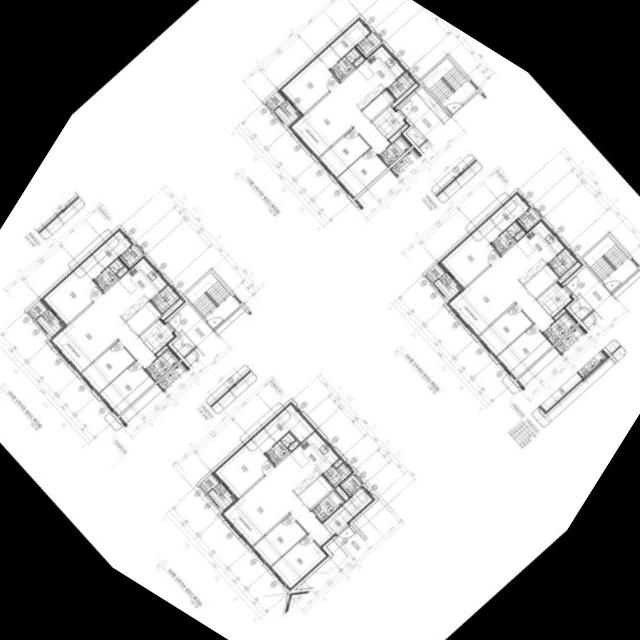background: (0, 0, 640, 640)
space_balconi: (547, 248, 576, 276), (150, 284, 178, 313), (386, 71, 414, 98), (35, 308, 61, 336), (322, 462, 351, 487), (433, 272, 459, 299), (207, 482, 233, 509), (273, 99, 298, 126)
space_bedroom: (41, 264, 101, 324), (439, 228, 499, 287), (213, 438, 273, 497), (280, 56, 338, 113), (270, 534, 327, 588), (496, 323, 551, 377), (99, 360, 154, 414), (252, 514, 306, 566), (81, 340, 134, 392), (478, 304, 532, 355), (318, 128, 369, 177), (336, 148, 387, 197), (287, 440, 298, 450)
space_dressroom: (250, 402, 313, 452), (316, 19, 369, 69), (476, 192, 528, 242), (78, 229, 130, 278)
space_elevator_hall: (564, 265, 614, 313), (167, 302, 216, 350), (398, 92, 442, 138), (333, 524, 364, 556)
space_front: (540, 285, 571, 317), (142, 322, 173, 354), (321, 505, 352, 535), (376, 109, 405, 139)
space_kitchen: (337, 45, 403, 110), (498, 220, 564, 284), (272, 431, 338, 495), (101, 257, 166, 321)
space_living_room: (222, 468, 332, 547), (448, 258, 553, 335), (51, 294, 156, 371), (290, 85, 389, 156)
space_other: (415, 86, 449, 122), (523, 264, 558, 297), (126, 301, 160, 334), (298, 475, 332, 508), (361, 89, 393, 120), (342, 487, 372, 517), (213, 306, 244, 334), (611, 269, 640, 298), (159, 296, 185, 321), (391, 82, 417, 106), (568, 293, 592, 319), (557, 260, 582, 284), (536, 280, 561, 304), (139, 317, 164, 341), (171, 330, 194, 356), (357, 32, 380, 54), (120, 244, 142, 265), (372, 105, 394, 126), (518, 208, 540, 228), (405, 125, 425, 145), (341, 474, 361, 494), (388, 123, 407, 142), (334, 485, 348, 500), (155, 344, 167, 356), (553, 308, 565, 319), (513, 229, 524, 240), (116, 266, 127, 277), (352, 56, 363, 66), (333, 458, 342, 467)
space_outdoor_room: (265, 90, 284, 109), (424, 263, 443, 282), (27, 299, 46, 318), (199, 473, 218, 492)
space_staircase: (184, 271, 239, 329), (420, 57, 476, 113), (582, 235, 637, 292)
space_toilet: (542, 312, 575, 344), (311, 489, 344, 521), (145, 348, 178, 380), (329, 47, 360, 79), (490, 221, 521, 253), (93, 258, 123, 290), (265, 431, 295, 463), (378, 135, 409, 165)
